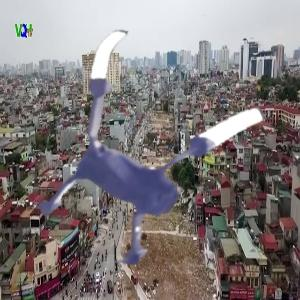drone: (9, 25, 283, 299)
